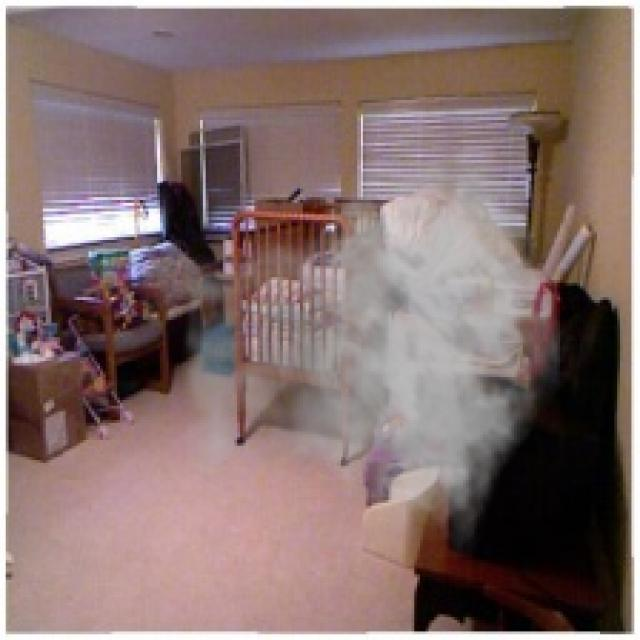Smoke: (146, 140, 563, 557)
